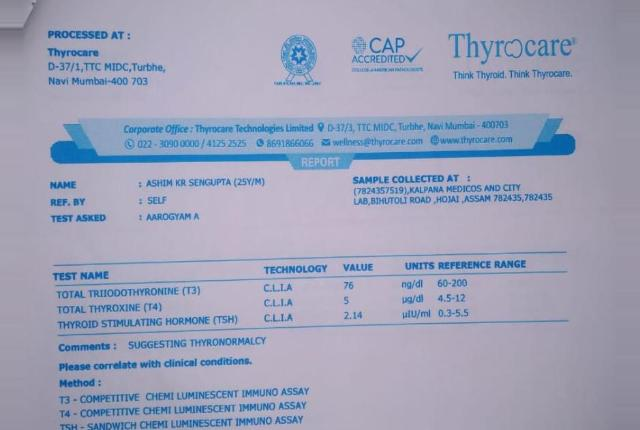Clinical_Conditions: (52, 391, 315, 429)
Name: (143, 176, 270, 187)
Ref_By: (144, 194, 172, 206)
Reference_Range: (435, 275, 475, 321)
Technology: (258, 279, 306, 326)
Test_Asked: (144, 210, 204, 225)
Test_Name: (53, 282, 243, 331)
Unit: (398, 276, 434, 324)
Value: (339, 277, 369, 325)
